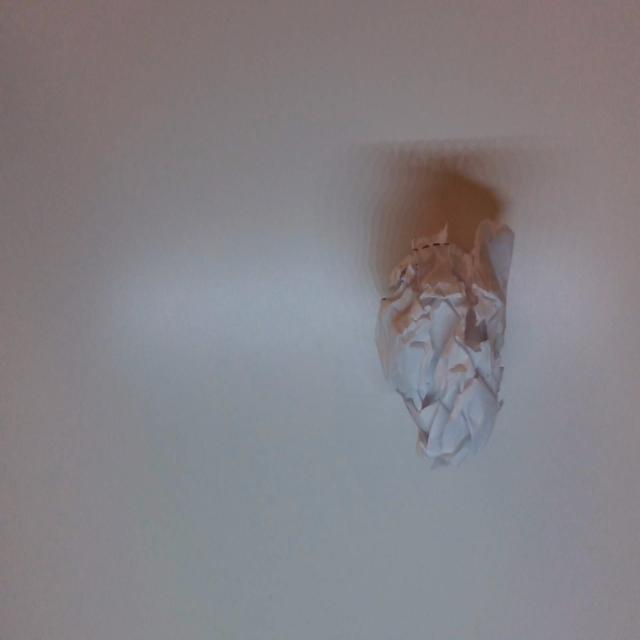Paper: (377, 214, 518, 469)
